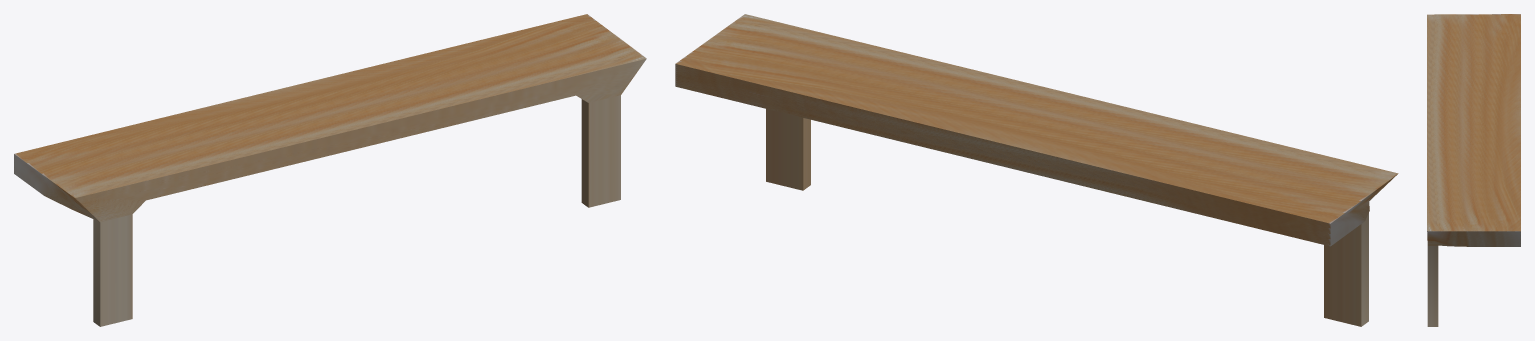
File: bench4.fbx
3 views of the same model, side by side, from view 1: azimuth 30°, elevation 25°; view 2: azimuth 150°, elevation 25°; view 3: azimuth 270°, elevation 25° (orthographic). The views are drawn at different scales.
Visible parts, largest first — view 1: pCube7; view 2: pCube7; view 3: pCube7.
Part boxes in pixels (left/top/right/bottom): pCube7: left=14, top=14, right=646, bottom=326; pCube7: left=675, top=14, right=1398, bottom=326; pCube7: left=1427, top=14, right=1520, bottom=326.
Bounding box in the file's own units: 5083 × 1149 × 926.
1 material, 1 textured.
